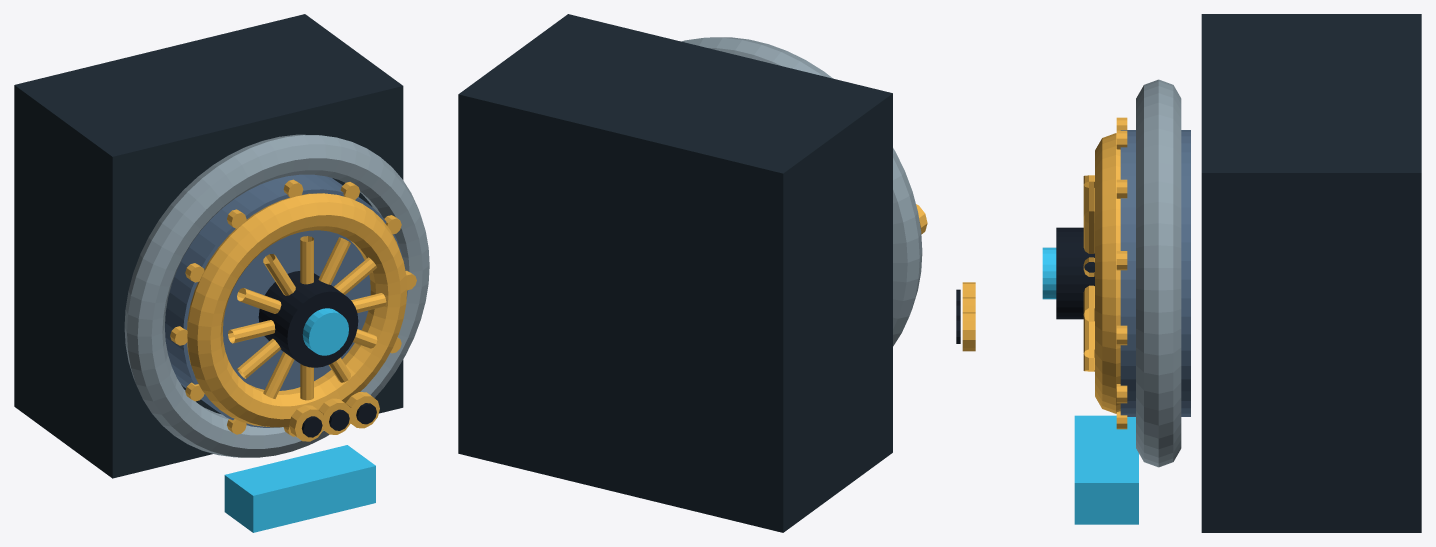
The model's file is 21_L84_SkewBackupReactionWheel.fbx.
3 views of the same model, side by side, from view 1: azimuth 30°, elevation 25°; view 2: azimuth 150°, elevation 25°; view 3: azimuth 270°, elevation 25° (orthographic). The views are drawn at different scales.
Visible parts, largest first — view 1: L84_SkewBackupReactionWheel, L84_SkewBackupReactionWheel_Part_0003, L84_SkewBackupReactionWheel_Part_0002, L84_SkewBackupReactionWheel_Part_0004, L84_SkewBackupReactionWheel_Part_0005, L84_SkewBackupReactionWheel_Part_0008, L84_SkewBackupReactionWheel_Part_0010, L84_SkewBackupReactionWheel_Part_0012; view 2: L84_SkewBackupReactionWheel; view 3: L84_SkewBackupReactionWheel, L84_SkewBackupReactionWheel_Part_0003, L84_SkewBackupReactionWheel_Part_0002, L84_SkewBackupReactionWheel_Part_0004, L84_SkewBackupReactionWheel_Part_0005, L84_SkewBackupReactionWheel_Part_0012.
Part boxes in pixels (left/top/right/bottom): L84_SkewBackupReactionWheel: left=14, top=14, right=429, bottom=532; L84_SkewBackupReactionWheel_Part_0003: left=187, top=193, right=407, bottom=427; L84_SkewBackupReactionWheel_Part_0002: left=165, top=174, right=402, bottom=427; L84_SkewBackupReactionWheel_Part_0004: left=258, top=271, right=358, bottom=367; L84_SkewBackupReactionWheel_Part_0005: left=302, top=308, right=348, bottom=355; L84_SkewBackupReactionWheel_Part_0008: left=289, top=405, right=325, bottom=441; L84_SkewBackupReactionWheel_Part_0010: left=318, top=398, right=352, bottom=434; L84_SkewBackupReactionWheel_Part_0012: left=345, top=392, right=379, bottom=428; L84_SkewBackupReactionWheel: left=458, top=14, right=922, bottom=532; L84_SkewBackupReactionWheel: left=1074, top=14, right=1421, bottom=532; L84_SkewBackupReactionWheel_Part_0003: left=1083, top=133, right=1120, bottom=413; L84_SkewBackupReactionWheel_Part_0002: left=1120, top=130, right=1190, bottom=416; L84_SkewBackupReactionWheel_Part_0004: left=1056, top=227, right=1094, bottom=319; L84_SkewBackupReactionWheel_Part_0005: left=1042, top=247, right=1056, bottom=299; L84_SkewBackupReactionWheel_Part_0012: left=962, top=312, right=975, bottom=351.
Bounding box in the file's own units: 127 × 144 × 152.
